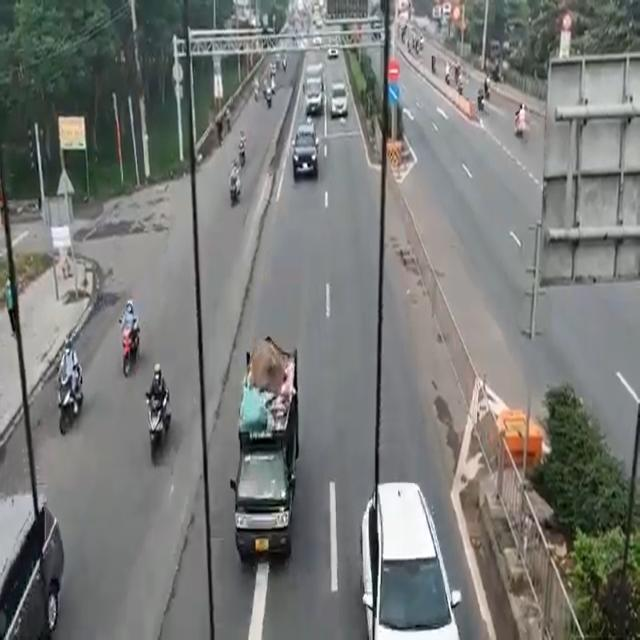car: (367, 480, 449, 640), (0, 490, 47, 640), (329, 86, 347, 118)
motor: (54, 366, 88, 428), (146, 398, 170, 464), (120, 322, 138, 388)
truck: (238, 346, 294, 568), (294, 121, 320, 190), (307, 62, 323, 115)
